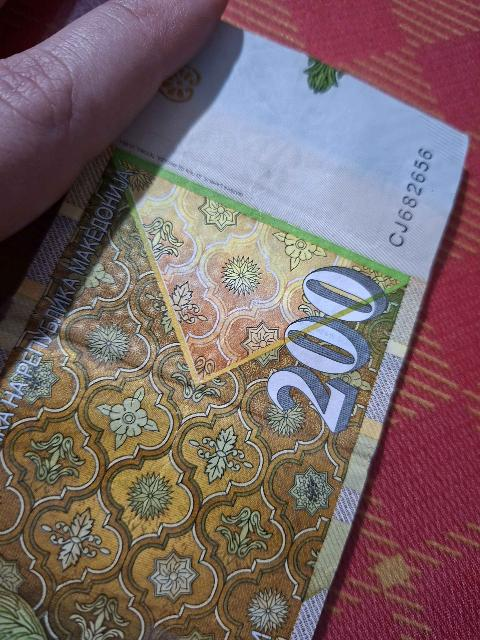200_note: (0, 21, 479, 639)
